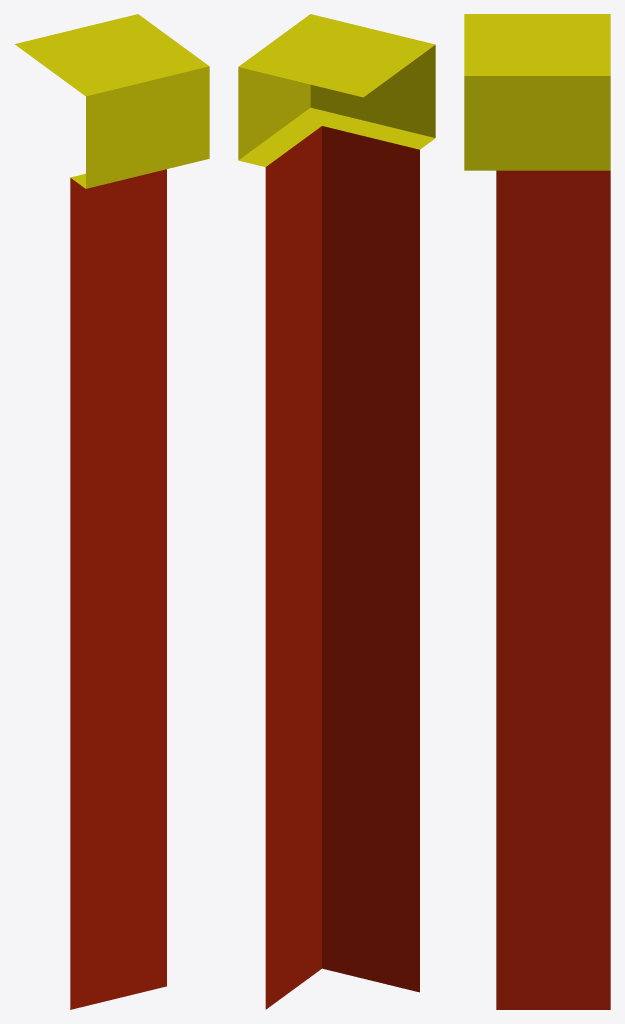
The model's file is poto.fbx.
3 renders of one model, left to right at view 1: azimuth 30°, elevation 25°; view 2: azimuth 150°, elevation 25°; view 3: azimuth 270°, elevation 25°, orthographic. The views are drawn at different scales.
Parts seen in each view (by area): view 1: wall_joint1; view 2: wall_joint1; view 3: wall_joint1.
Part boxes in pixels (x1,y1,x2,y2): wall_joint1: (15, 14, 209, 1009); wall_joint1: (238, 14, 435, 1009); wall_joint1: (464, 14, 610, 1009).
Size of the model in its own units: 106 by 754 by 106.
